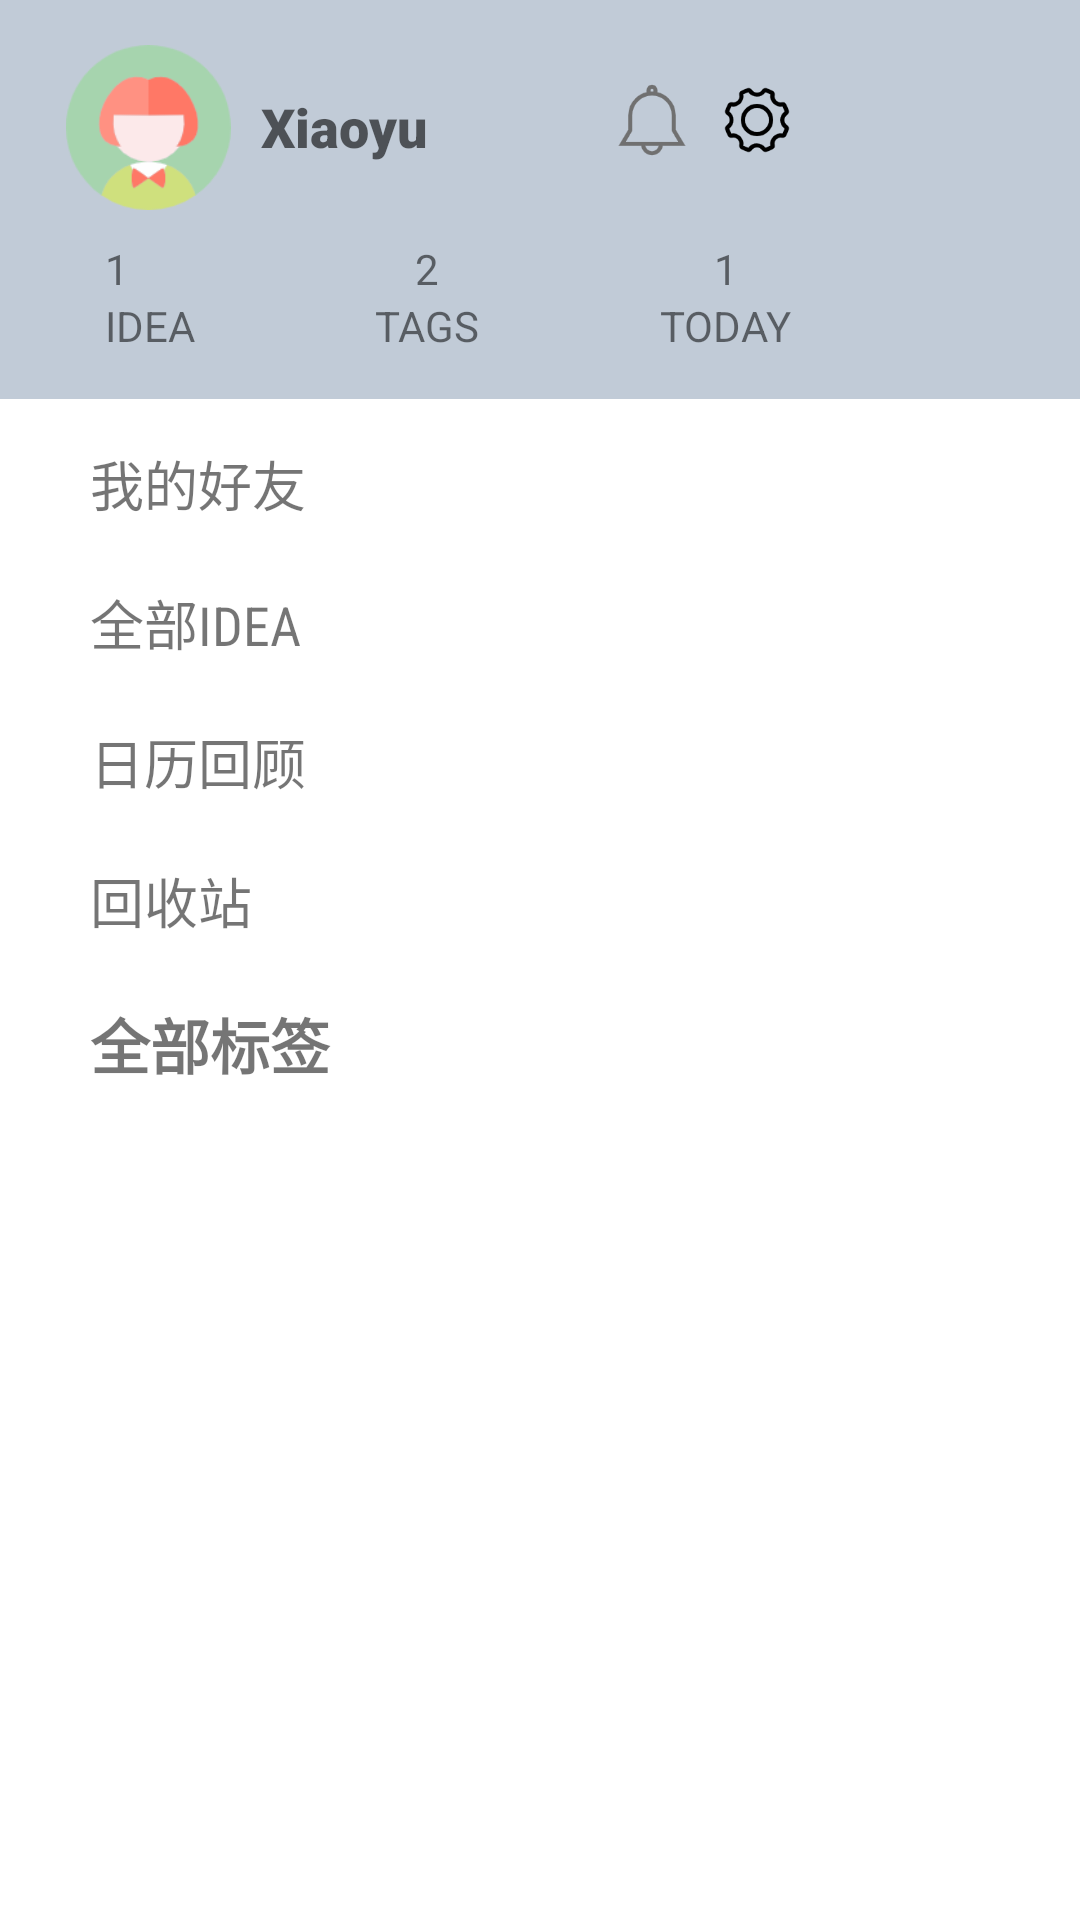

Screen size 1080w x 1920h. Icon name, then its box in pixels as (x1=x1, y1=y1, x2=x2, y2=y2):
set: (x1=724, y1=87, x2=790, y2=153)
tongzhi: (x1=618, y1=85, x2=686, y2=155)
